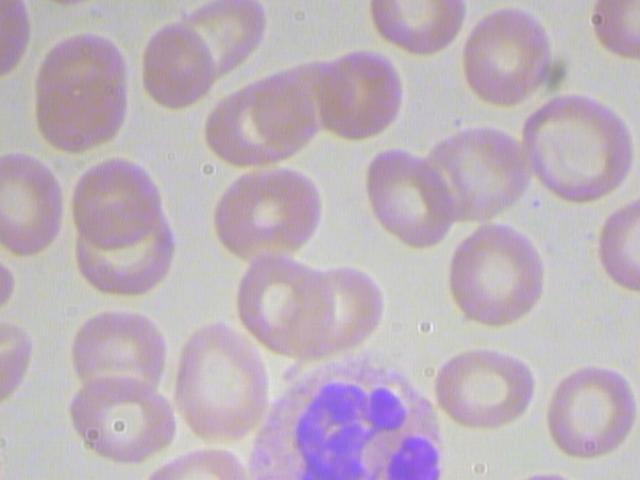RBC: (169, 317, 277, 455), (509, 94, 640, 207), (207, 160, 334, 270), (535, 356, 639, 464), (446, 221, 550, 329), (456, 3, 560, 111), (354, 144, 458, 252), (64, 302, 166, 406), (74, 200, 176, 304), (66, 371, 181, 463), (435, 347, 540, 437), (68, 154, 165, 249), (316, 47, 409, 141), (35, 65, 128, 159), (1, 145, 66, 260), (141, 18, 217, 109), (356, 1, 465, 56)
